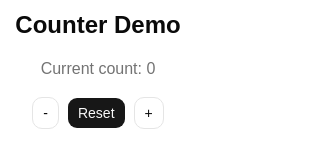
Test: Counter › increments count when + button is clicked
Click the button named "Increment". click: (149, 113)
box: left=134, top=97, right=164, bottom=129
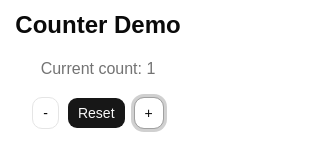
Now the text with test id "count" reads "1", box left=146, top=60, right=155, bottom=77
